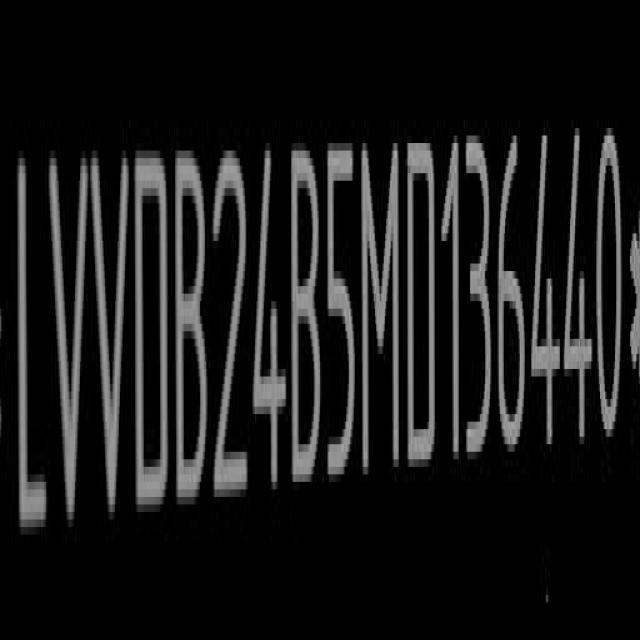0: (597, 124, 624, 457)
1: (439, 130, 457, 475)
2: (213, 148, 250, 514)
3: (463, 130, 493, 464)
4: (254, 146, 288, 509), (530, 127, 561, 464), (562, 120, 591, 458)
5: (326, 137, 358, 496)
6: (499, 131, 529, 467)
B: (177, 143, 213, 521), (294, 139, 326, 499)
D: (133, 143, 169, 528), (407, 133, 438, 477)
L: (15, 141, 48, 550)
M: (364, 132, 404, 490)
V: (47, 147, 89, 541), (92, 141, 132, 536)
